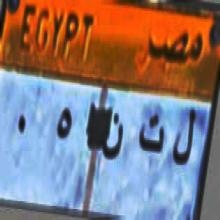0: (14, 100, 32, 148)
5: (52, 104, 76, 158)
laam: (168, 106, 199, 170)
noon: (98, 108, 128, 168)
taa: (136, 110, 165, 162)
